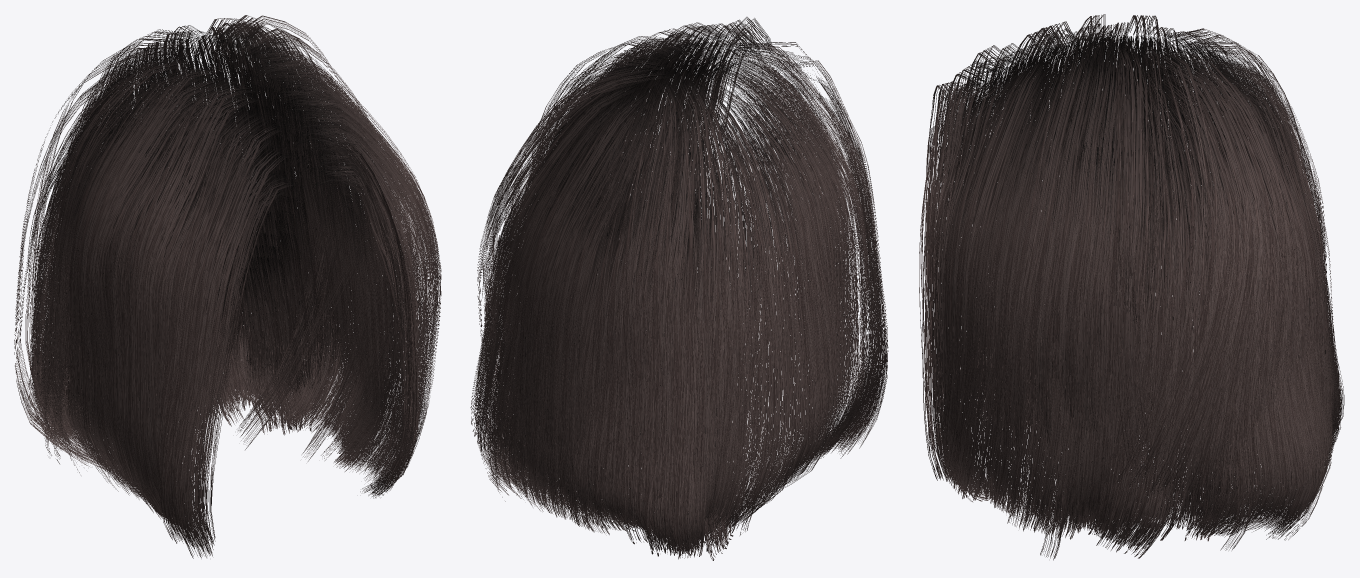
Rendered from Hair06.fbx.
The picture shows the model from 3 angles, left to right: view 1: azimuth 30°, elevation 25°; view 2: azimuth 150°, elevation 25°; view 3: azimuth 270°, elevation 25°; orthographic projection. The views are drawn at different scales.
Visible parts, largest first — view 1: hair6; view 2: hair6; view 3: hair6.
Part boxes in pixels (box(x1,y1,x2,y2)): hair6: box(14, 15, 441, 558); hair6: box(470, 17, 888, 560); hair6: box(919, 14, 1344, 560).
Bounding box in the file's own units: 23.62 × 30.4 × 24.82.
Materials: 1 (1 with a texture image).
